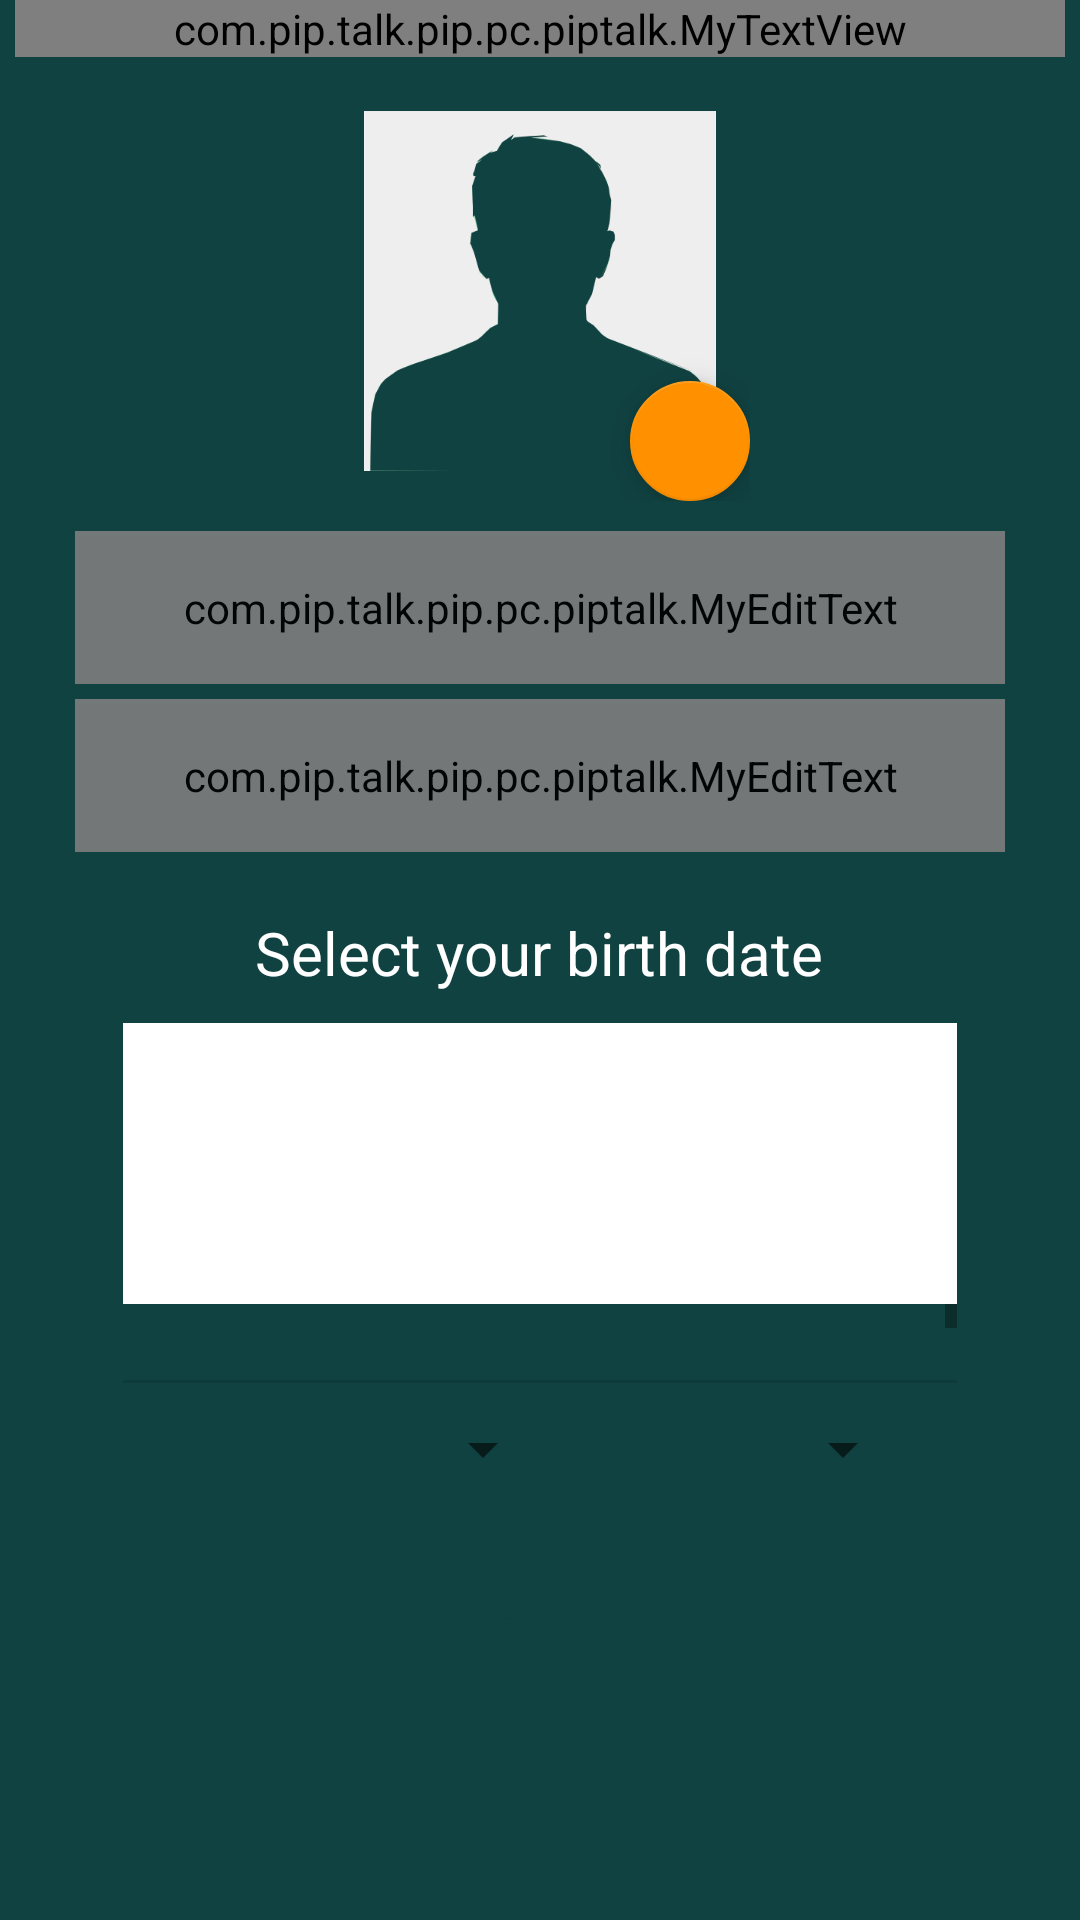

Icons on this 1080×1920 Android screen, each with its box as (x1, y1, x2, y2):
User Image: (364, 111, 720, 471)
